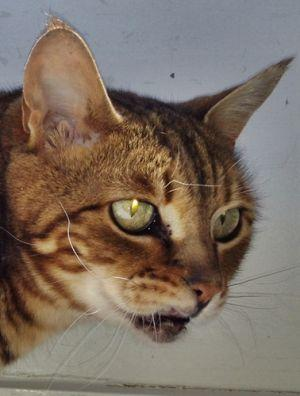bengal: (19, 7, 297, 354)
